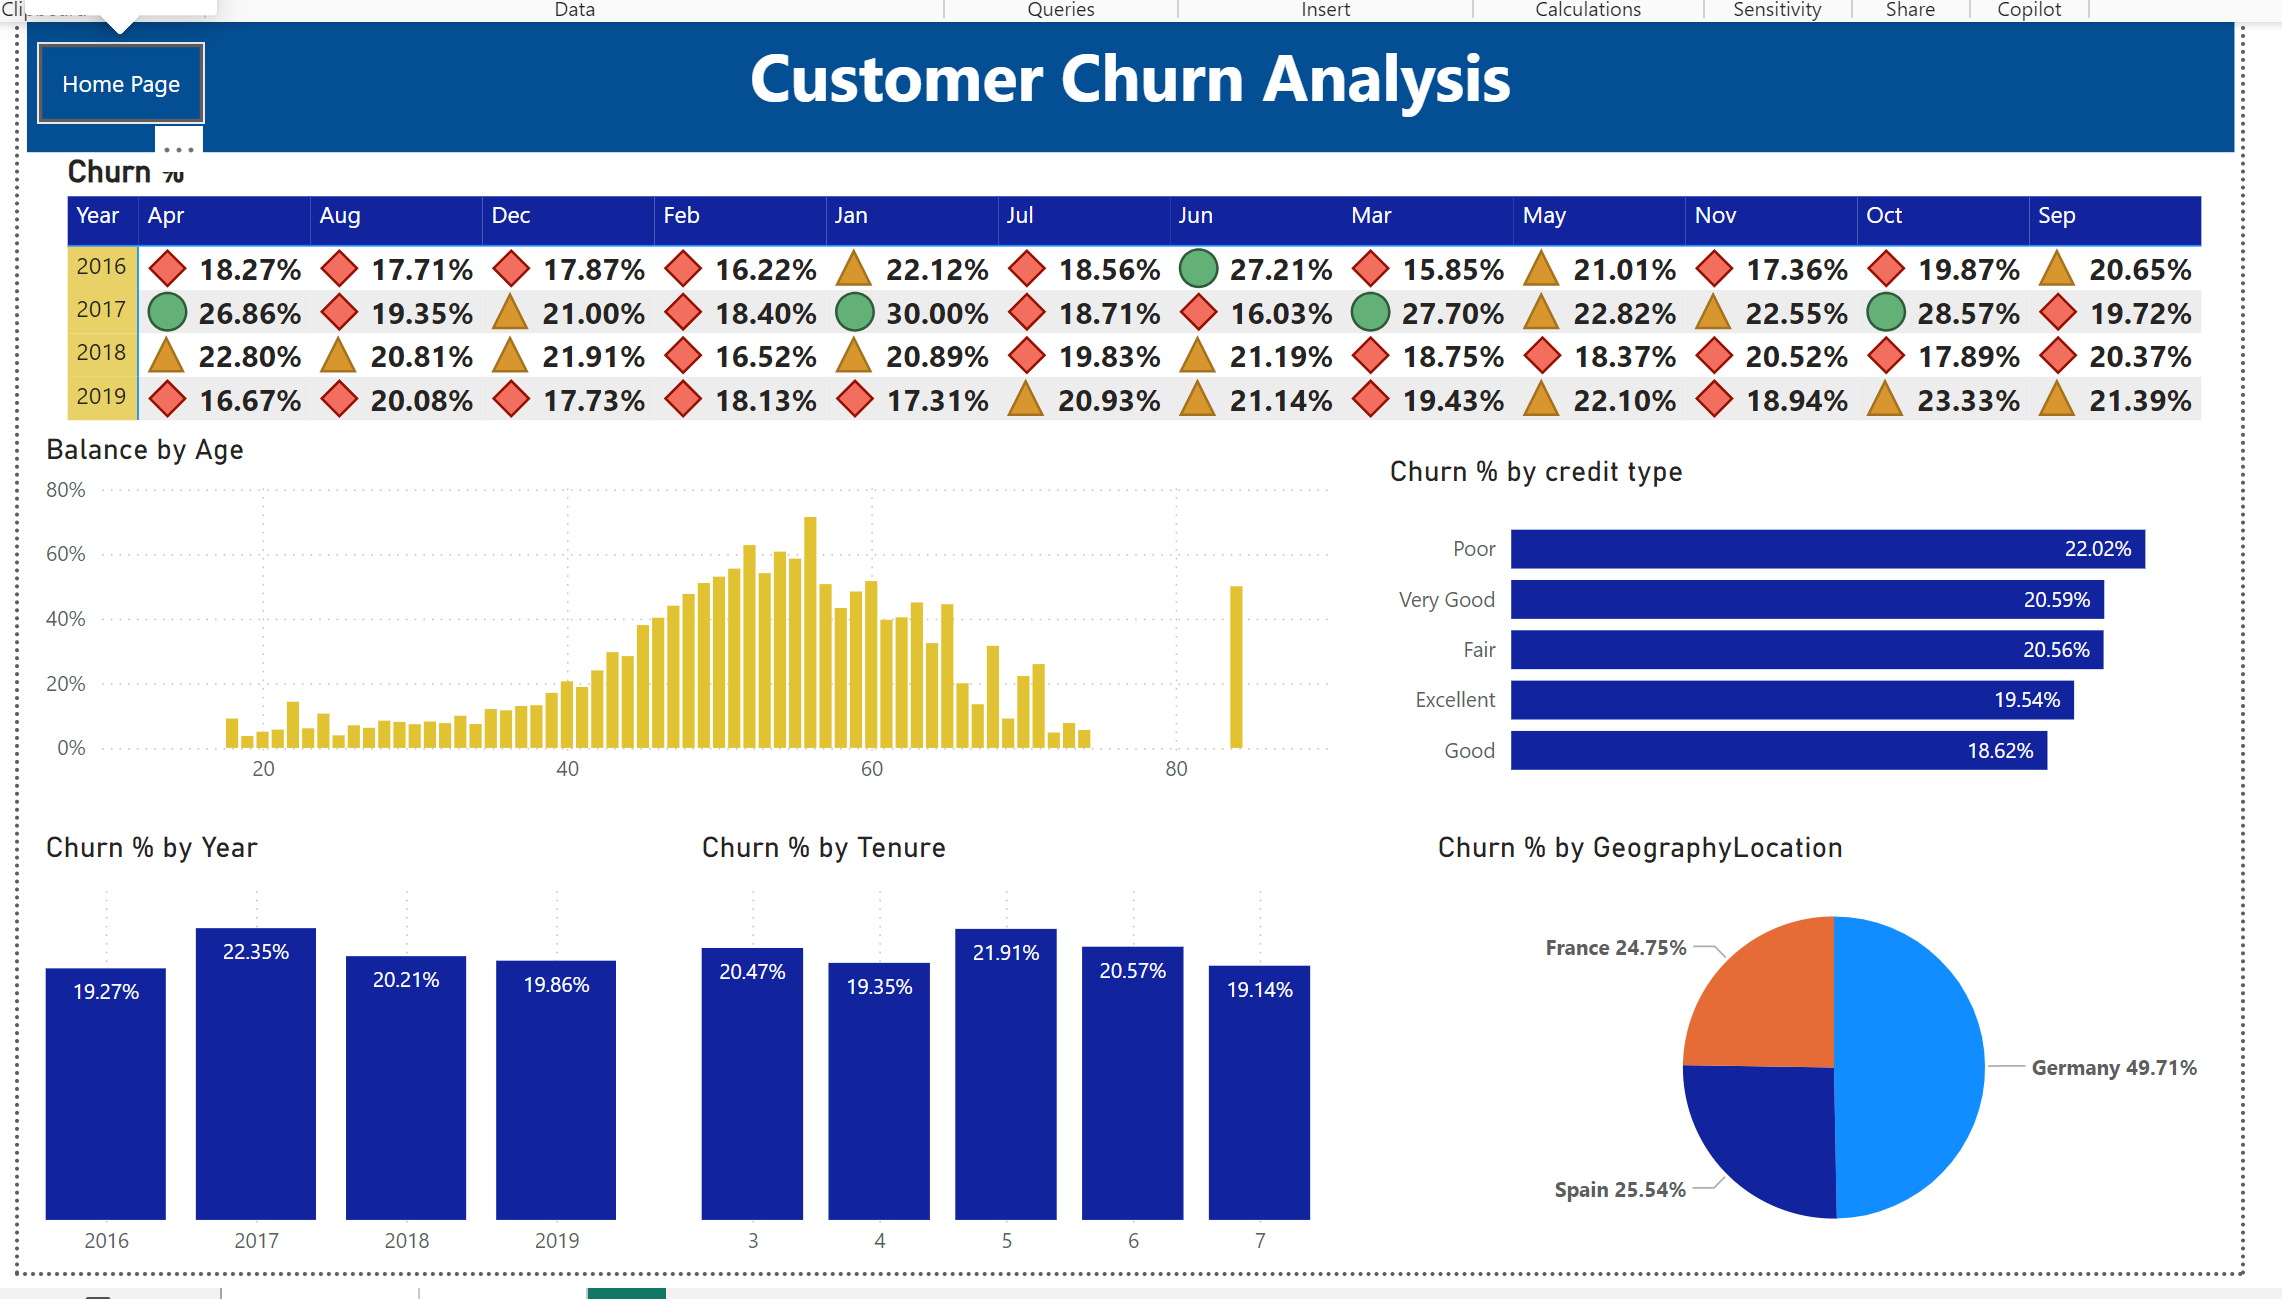

This screenshot's page, from the dashboard's own definition file:
{"tool":"powerbi","page":{"name":"Churn%","canvas":[1280,720],"ordinal":1},"visuals":[{"type":"pivotTable","title":"Churn %","fields":{"Rows":["Datemaster.Year"],"Columns":["Datemaster.MonthName"],"Values":["Calculations.Churn %"]},"box":[23,74.9,1253.4,174],"z":0},{"type":"textbox","box":[5,0,1271.2,75],"z":1000},{"type":"lineStackedColumnComboChart","title":"Balance by Age","fields":{"Category":["Bank_Churn.Age"],"Y":["Calculations.Churn %"]},"box":[10.4,236.2,755.7,212],"z":3000},{"type":"barChart","title":"Churn % by credit type","fields":{"Category":["Bank_Churn.credit type"],"Y":["Calculations.Churn %"]},"box":[784.5,248.8,491.9,199.3],"z":4000},{"type":"lineStackedColumnComboChart","fields":{"Category":["Bank_Churn.Tenure"],"Y":["Calculations.Churn %"]},"box":[388.2,465.4,360.6,254.6],"z":5000},{"type":"lineStackedColumnComboChart","fields":{"Category":["Datemaster.Year"],"Y":["Calculations.Churn %"]},"box":[10.4,465.4,338.7,254.6],"z":6000},{"type":"pieChart","fields":{"Category":["Geography.GeographyLocation"],"Y":["Calculations.Churn %"]},"box":[812.2,465.4,466.6,254.6],"z":7000},{"type":"actionButton","box":[10.4,11.5,96.8,47.2],"z":7001}]}

Visuals, with their boxes on the page's 1280x720 design canvas (x1, y1, x2, y2). These are canvas units, not pixel positions in the 2282x1299 screenshot, which may show the page scaled, cropped or inside an application window:
"Churn %" pivotTable: x1=23, y1=75, x2=1276, y2=249
textbox: x1=5, y1=0, x2=1276, y2=75
"Balance by Age" lineStackedColumnComboChart: x1=10, y1=236, x2=766, y2=448
"Churn % by credit type" barChart: x1=784, y1=249, x2=1276, y2=448
lineStackedColumnComboChart - Bank_Churn.Tenure x Calculations.Churn %: x1=388, y1=465, x2=749, y2=720
lineStackedColumnComboChart - Datemaster.Year x Calculations.Churn %: x1=10, y1=465, x2=349, y2=720
pieChart - Geography.GeographyLocation x Calculations.Churn %: x1=812, y1=465, x2=1279, y2=720
actionButton: x1=10, y1=12, x2=107, y2=59
